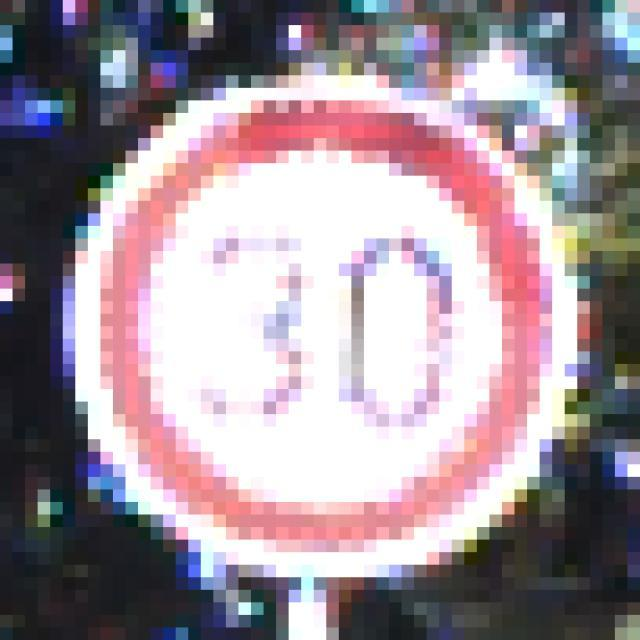Speed Limit -30-: (56, 69, 571, 571)
